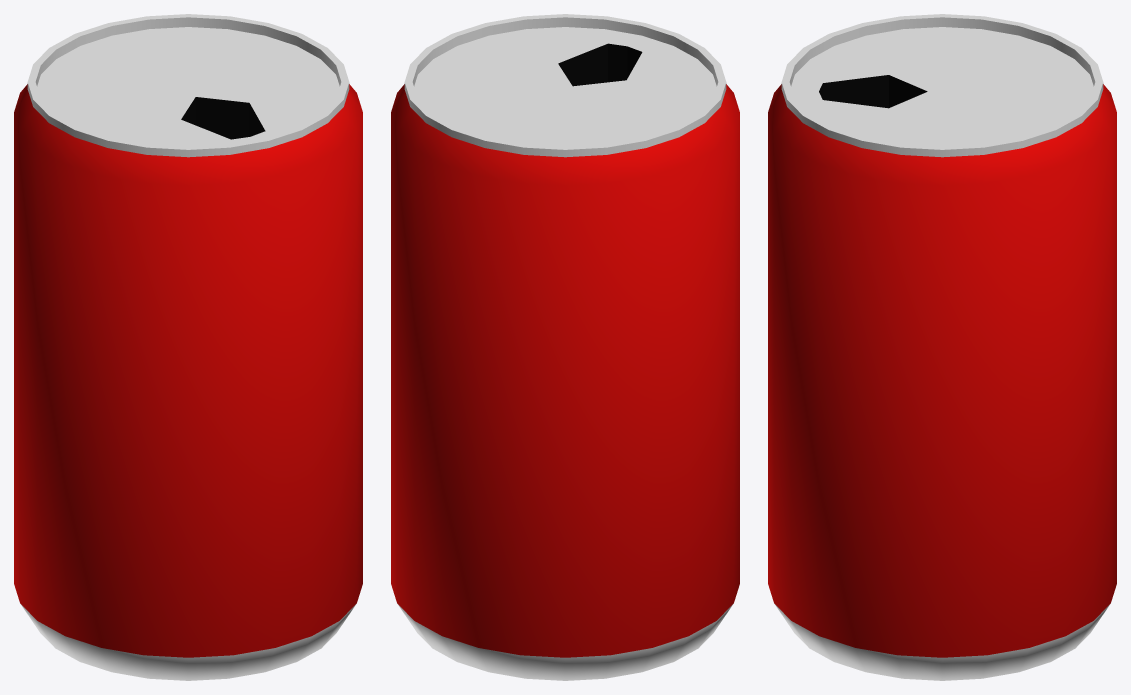
The model's file is Al_Can.fbx.
3 renders of one model, left to right at view 1: azimuth 30°, elevation 25°; view 2: azimuth 150°, elevation 25°; view 3: azimuth 270°, elevation 25°, orthographic.
Visible parts, largest first — view 1: Al_Can; view 2: Al_Can; view 3: Al_Can.
Boxes of the visible parts, x1,y1,x2,y2 form: Al_Can: (14,14,362,680); Al_Can: (391,14,739,680); Al_Can: (768,14,1116,680).
Bounding box in the file's own units: 5.33 × 9.01 × 5.33.
